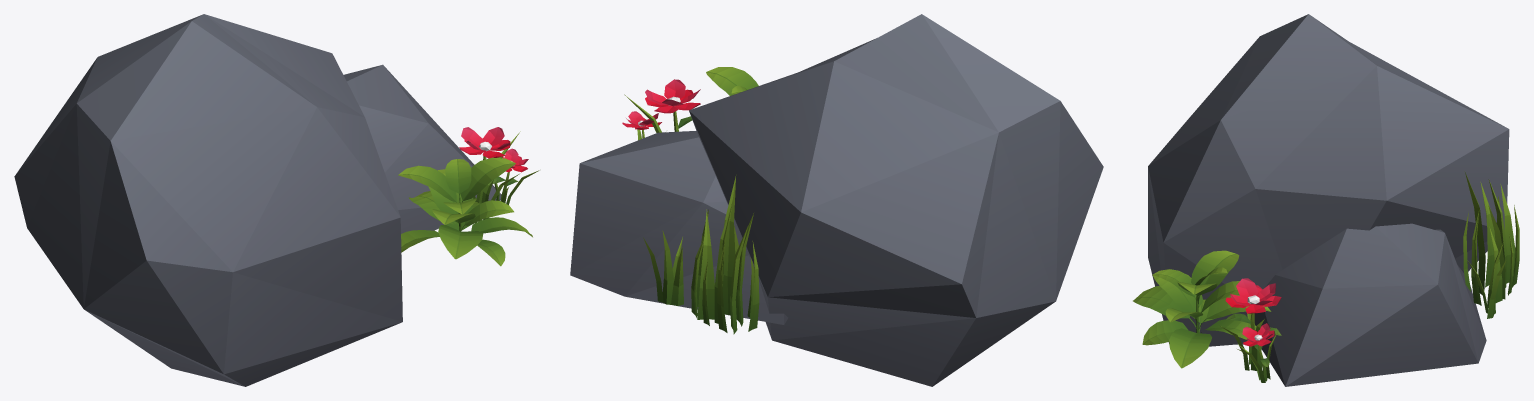
Rendered from Rock_05.fbx.
3 views of the same model, side by side, from view 1: azimuth 30°, elevation 25°; view 2: azimuth 150°, elevation 25°; view 3: azimuth 270°, elevation 25° (orthographic). The views are drawn at different scales.
Visible parts, largest first — view 1: Rock_05; view 2: Rock_05; view 3: Rock_05.
Part boxes in pixels (x1,y1,x2,y2): Rock_05: (14, 14, 539, 386); Rock_05: (570, 14, 1103, 386); Rock_05: (1133, 14, 1519, 386).
Bounding box in the file's own units: 1.64 × 1.27 × 1.34.
